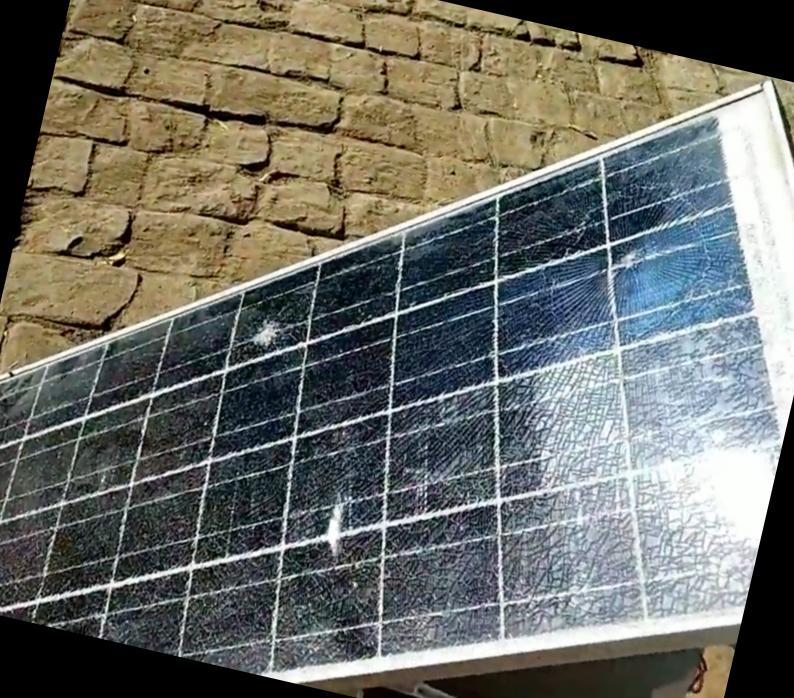Crack: (395, 276, 785, 612), (224, 297, 344, 387)
